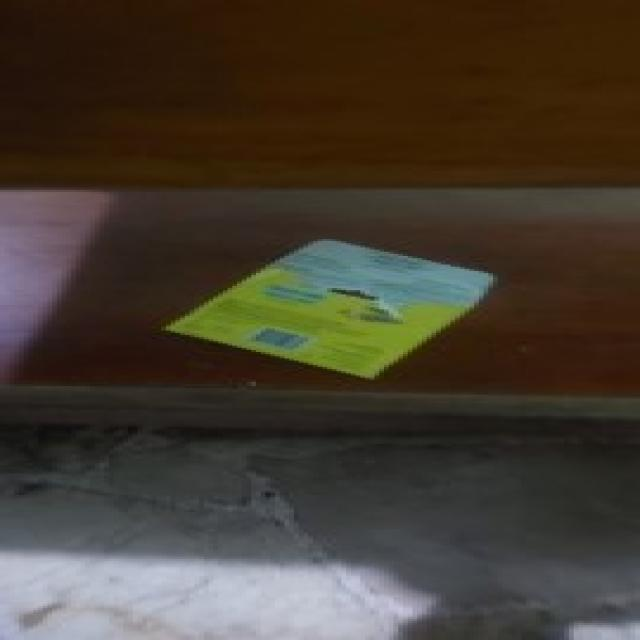Cacat: (168, 234, 496, 380)
Kemasan: (318, 276, 417, 333)
